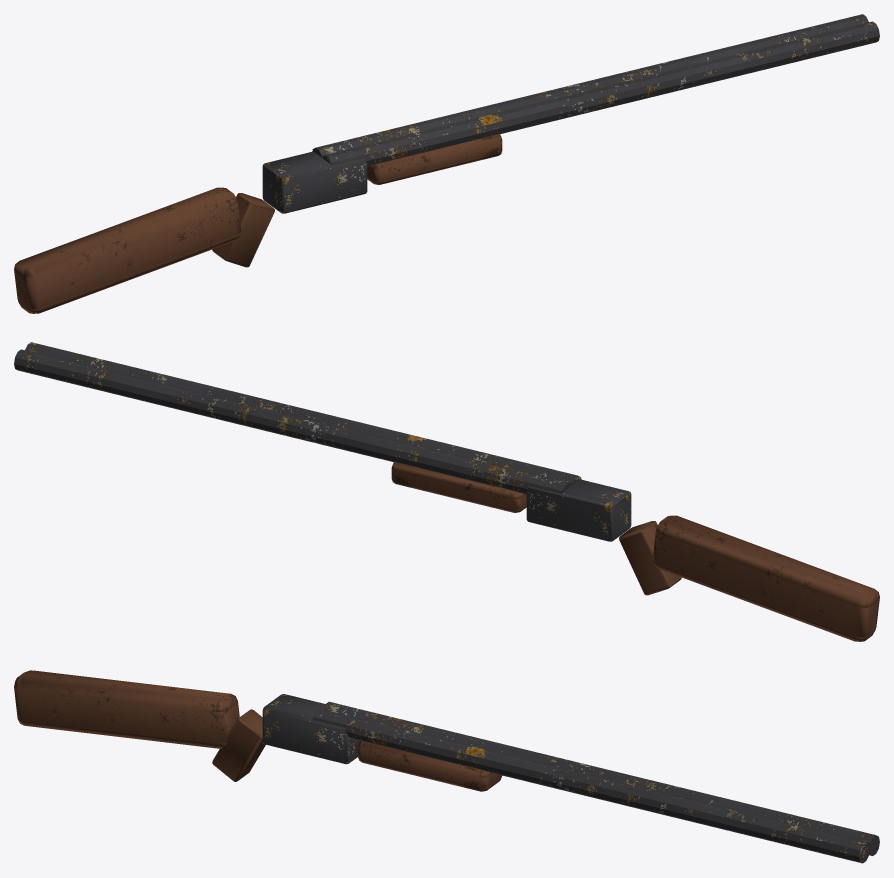
The model's file is held_weapon_doublebarrel.glb.
The picture shows the model from 3 angles, top to bottom: view 1: azimuth 30°, elevation 25°; view 2: azimuth 150°, elevation 25°; view 3: azimuth 330°, elevation 25°; orthographic projection.
Visible parts, largest first — view 1: box.003, cyl, cyl.001, box, box.001, box.002; view 2: box.003, cyl.001, cyl, box, box.001, box.002; view 3: box.003, cyl, cyl.001, box, box.001, box.002.
Boxes of the visible parts, x1,y1,x2,y2 form: box.003: (14, 187, 241, 313); cyl: (322, 21, 879, 166); cyl.001: (312, 14, 868, 157); box: (262, 151, 367, 213); box.001: (367, 134, 502, 184); box.002: (212, 193, 274, 267); box.003: (652, 515, 879, 641); cyl.001: (14, 349, 571, 494); cyl: (25, 342, 581, 485); box: (526, 479, 631, 541); box.001: (391, 462, 526, 512); box.002: (619, 521, 681, 595); box.003: (14, 670, 239, 748); cyl: (312, 709, 869, 863); cyl.001: (323, 701, 879, 855); box: (262, 694, 360, 764); box.001: (358, 741, 501, 791); box.002: (212, 709, 265, 781).
Size of the model in its own units: 1.18 by 0.1206 by 0.05.
2 materials, 2 textured.
